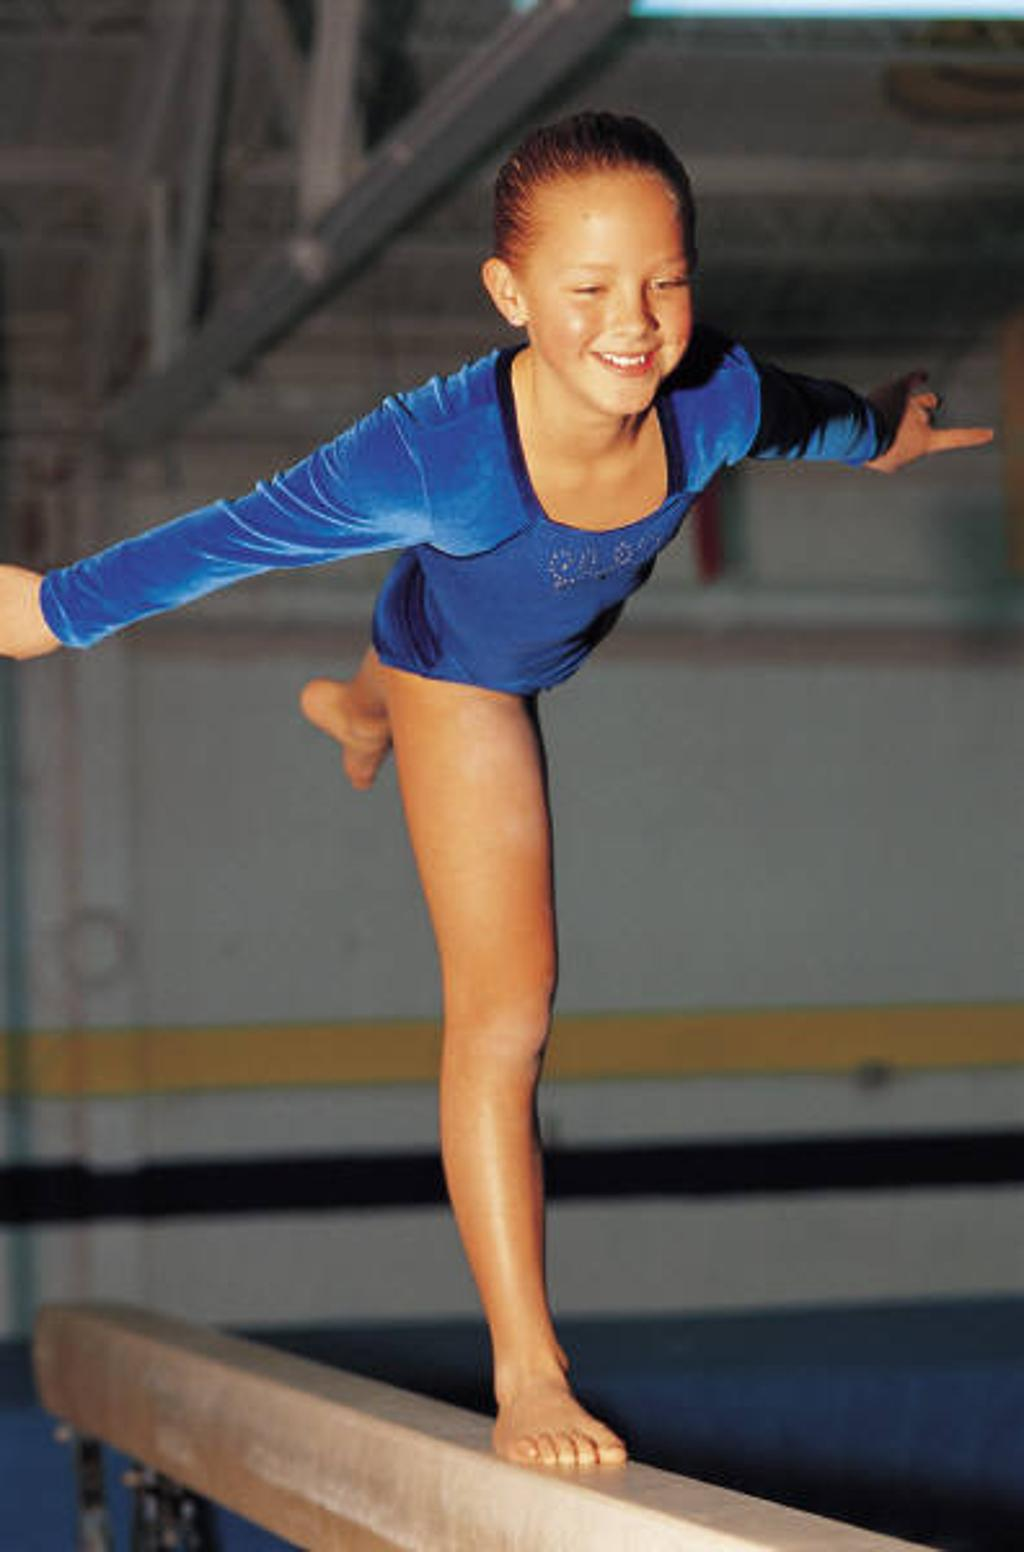face: (530, 161, 697, 422)
